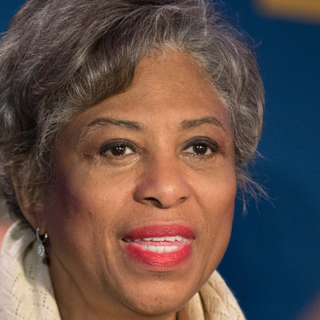eye: (86, 134, 150, 167), (175, 134, 222, 167)
